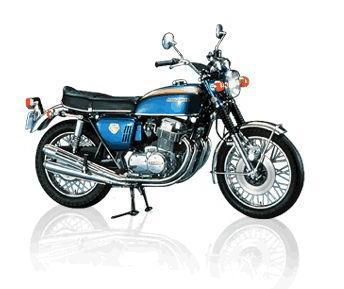motorcycle: (21, 19, 312, 224)
